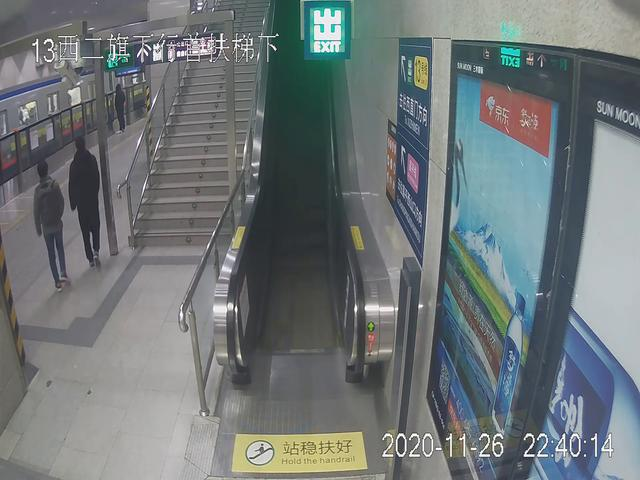person: (26, 155, 68, 297), (65, 133, 106, 267), (114, 84, 130, 139)
